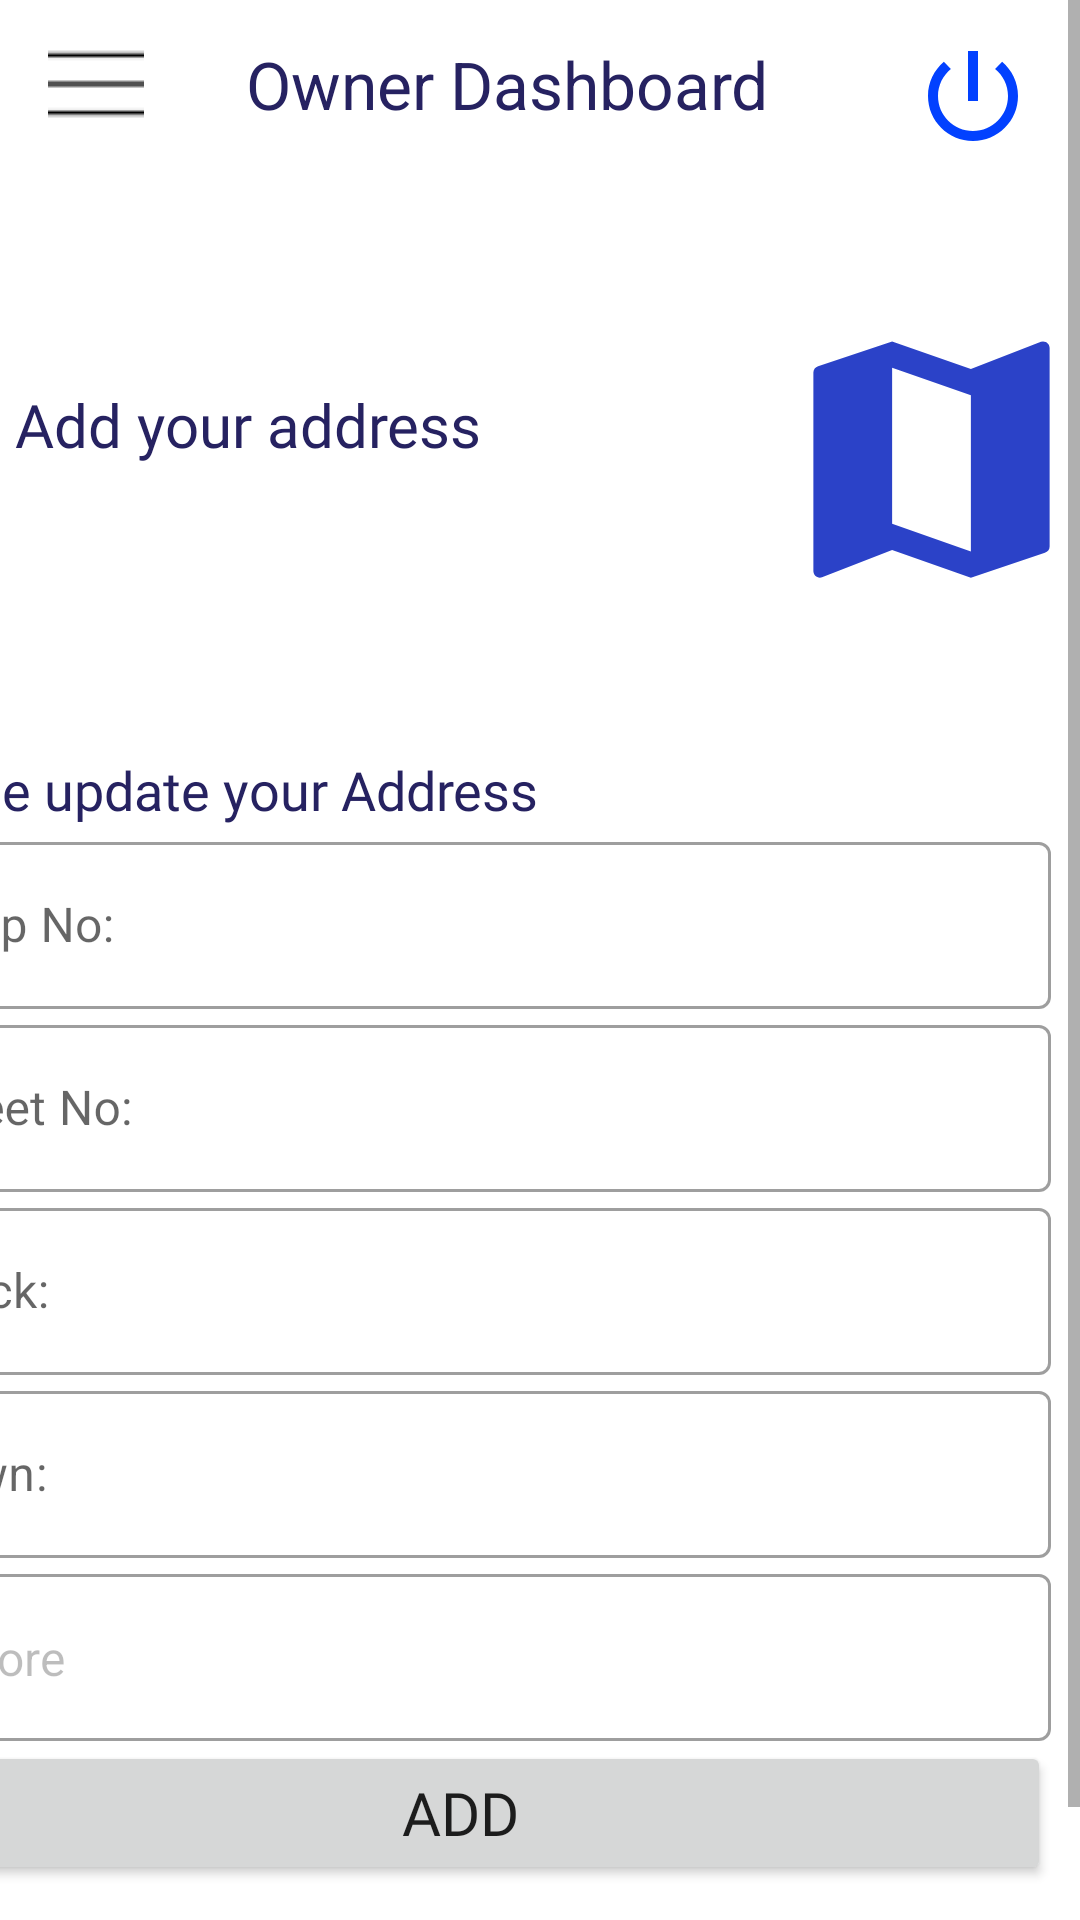

Screen size 1080w x 1920h. Icon name, then its box in pixels as (x1,y1,x2,y2):
map: (813,341,1050,578)
